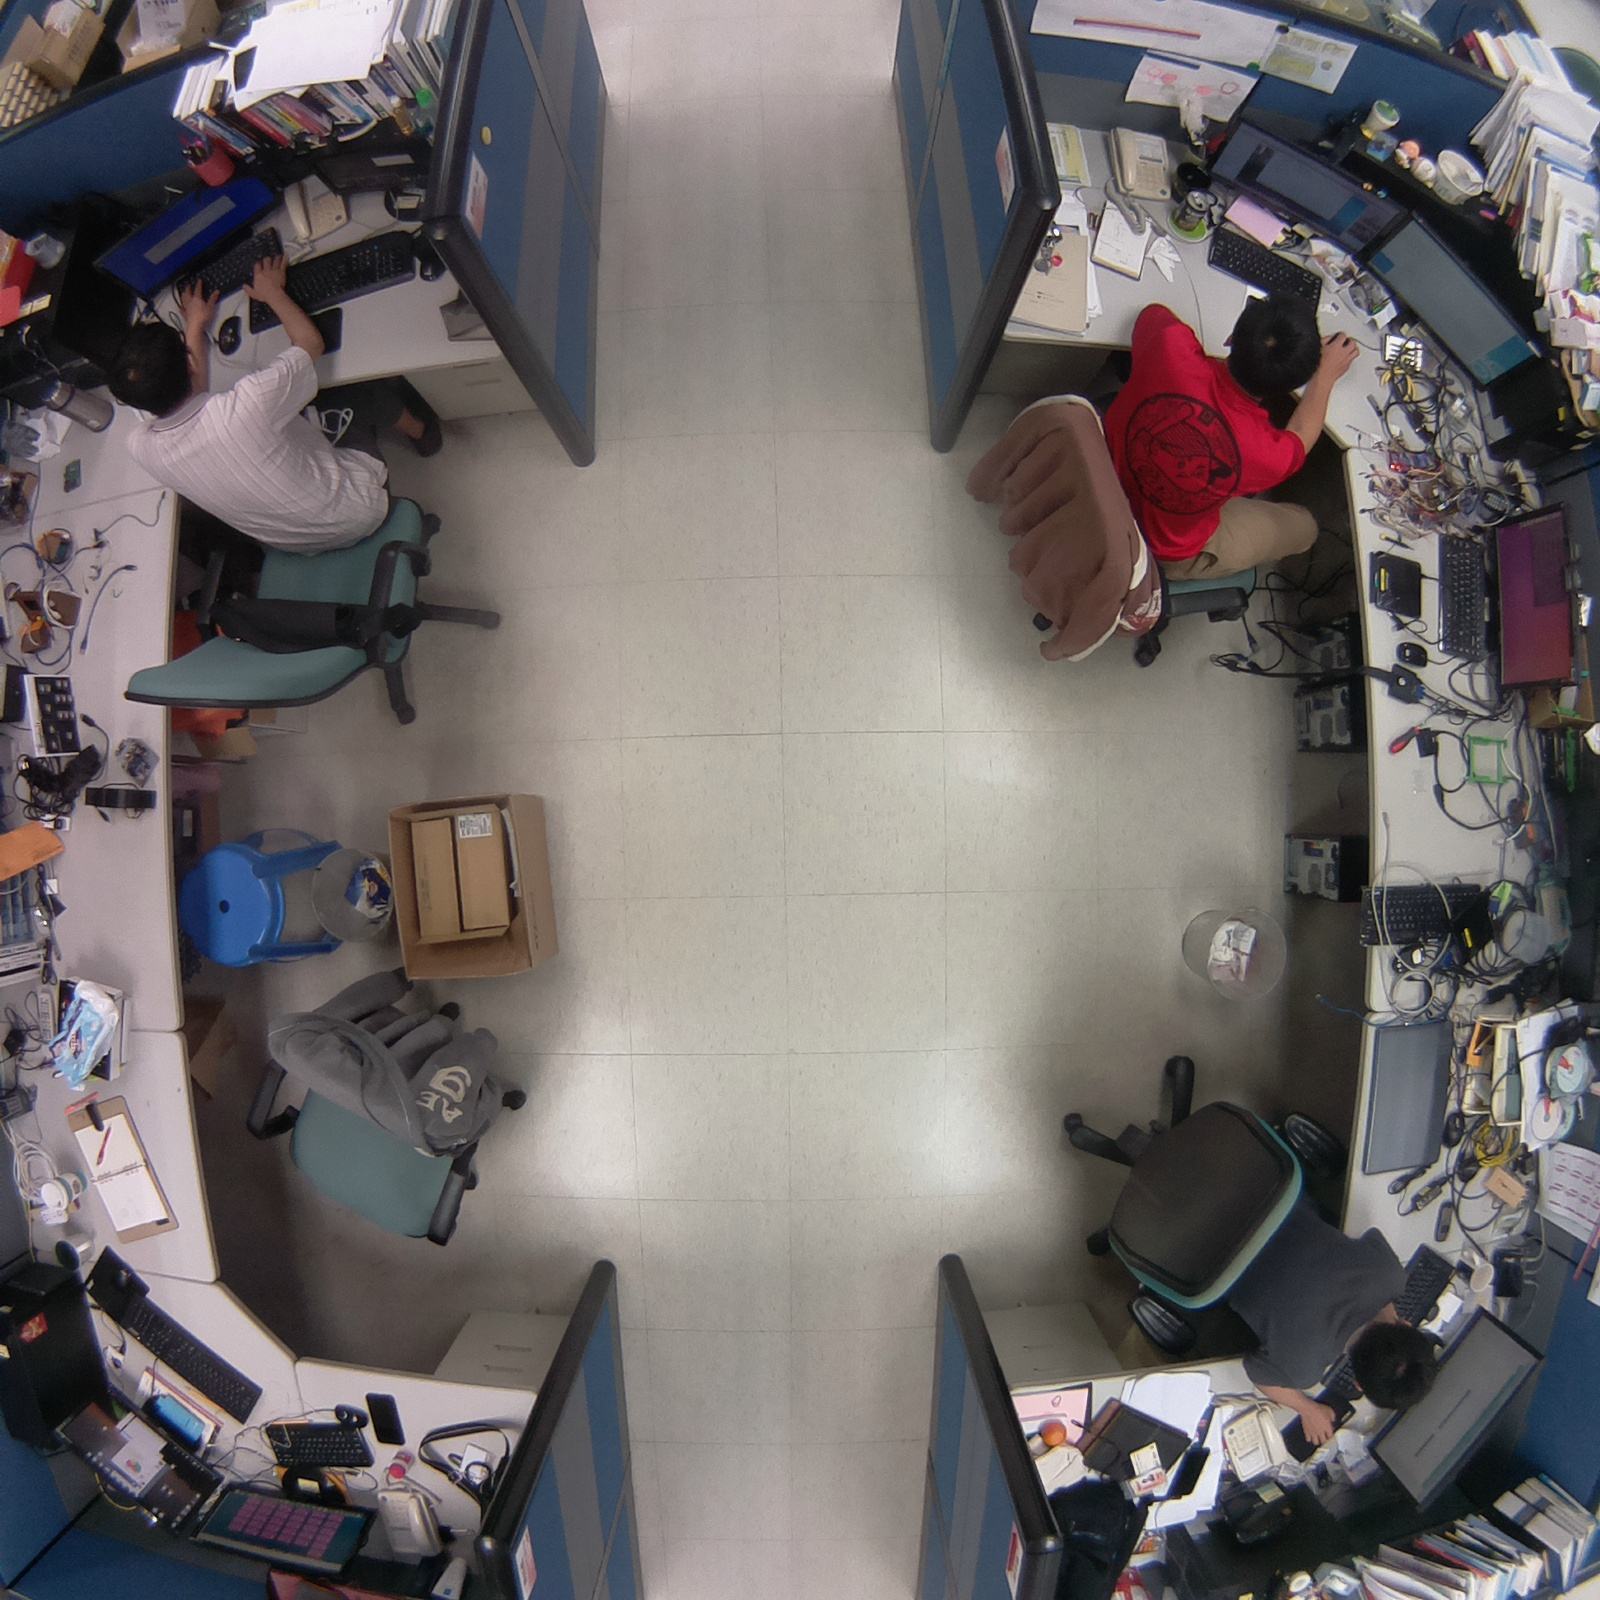chair: (224, 945, 540, 1265)
head: (1223, 286, 1331, 396), (1343, 1312, 1450, 1412), (101, 316, 203, 412)
sitting: (78, 243, 527, 745), (929, 269, 1364, 704), (1047, 1017, 1464, 1455)
